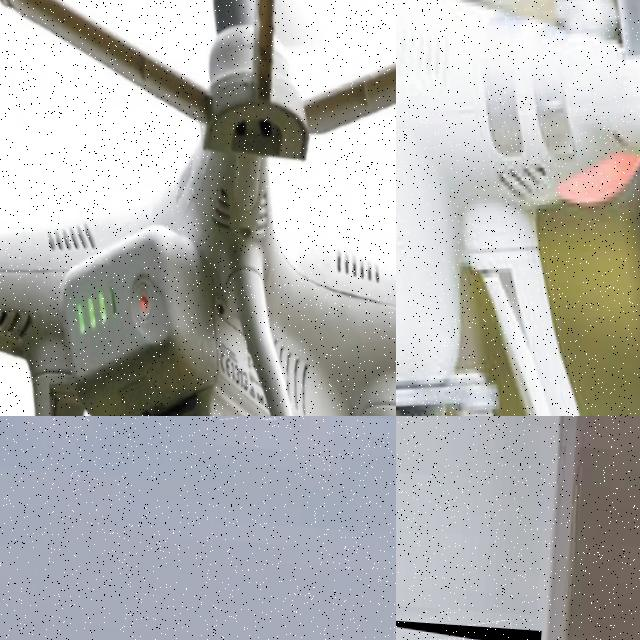drone: (0, 0, 396, 416), (396, 0, 640, 416)
